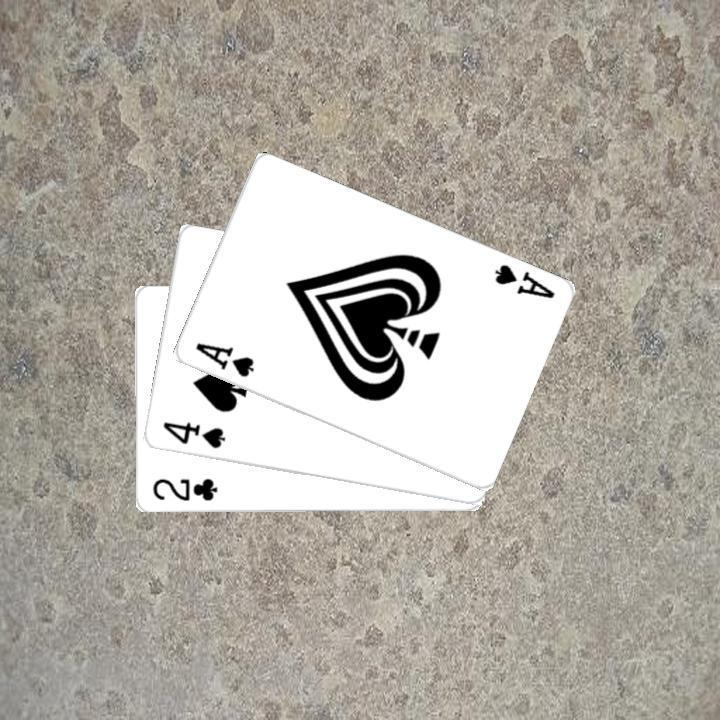2: (148, 475, 219, 504)
4: (158, 418, 227, 451)
A: (489, 260, 557, 301), (190, 338, 255, 380)
